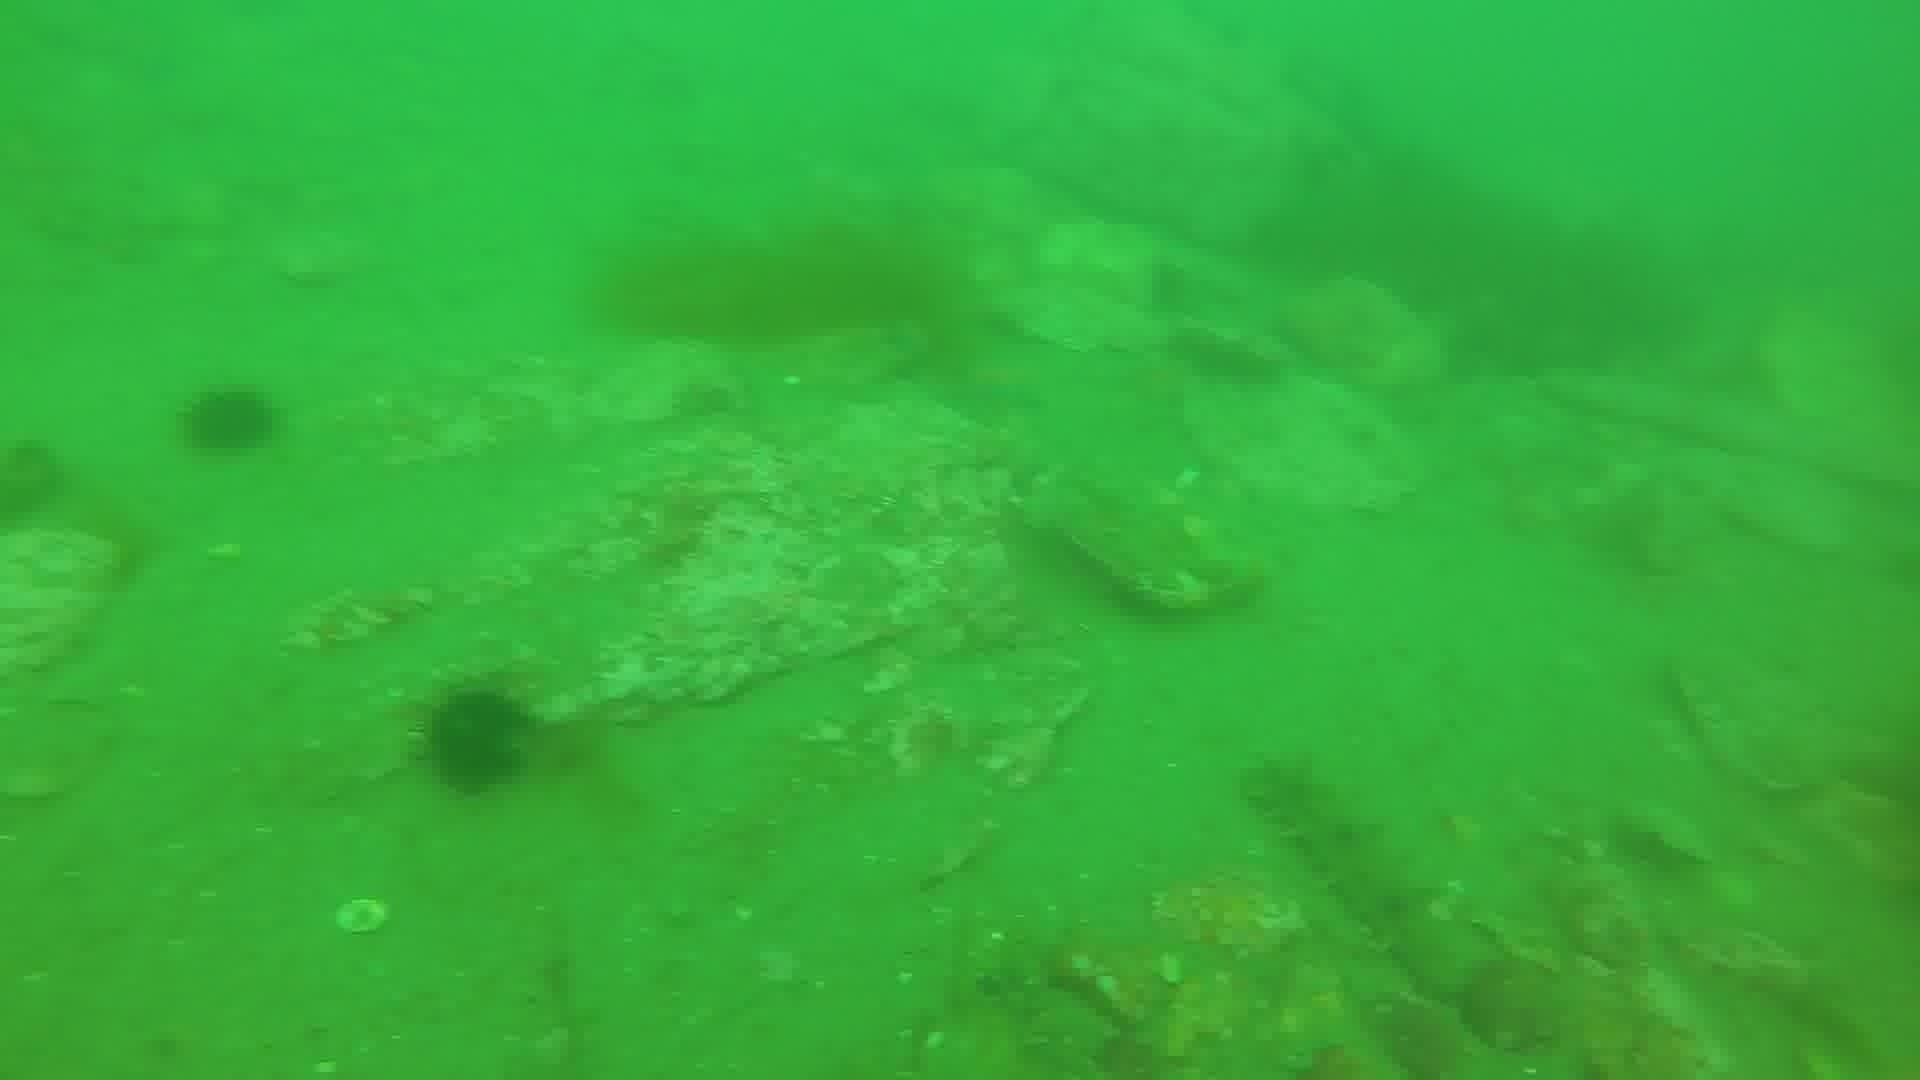echinus: (415, 680, 535, 800), (175, 381, 281, 462), (1, 450, 58, 520)
holothurian: (1244, 749, 1487, 1002)
